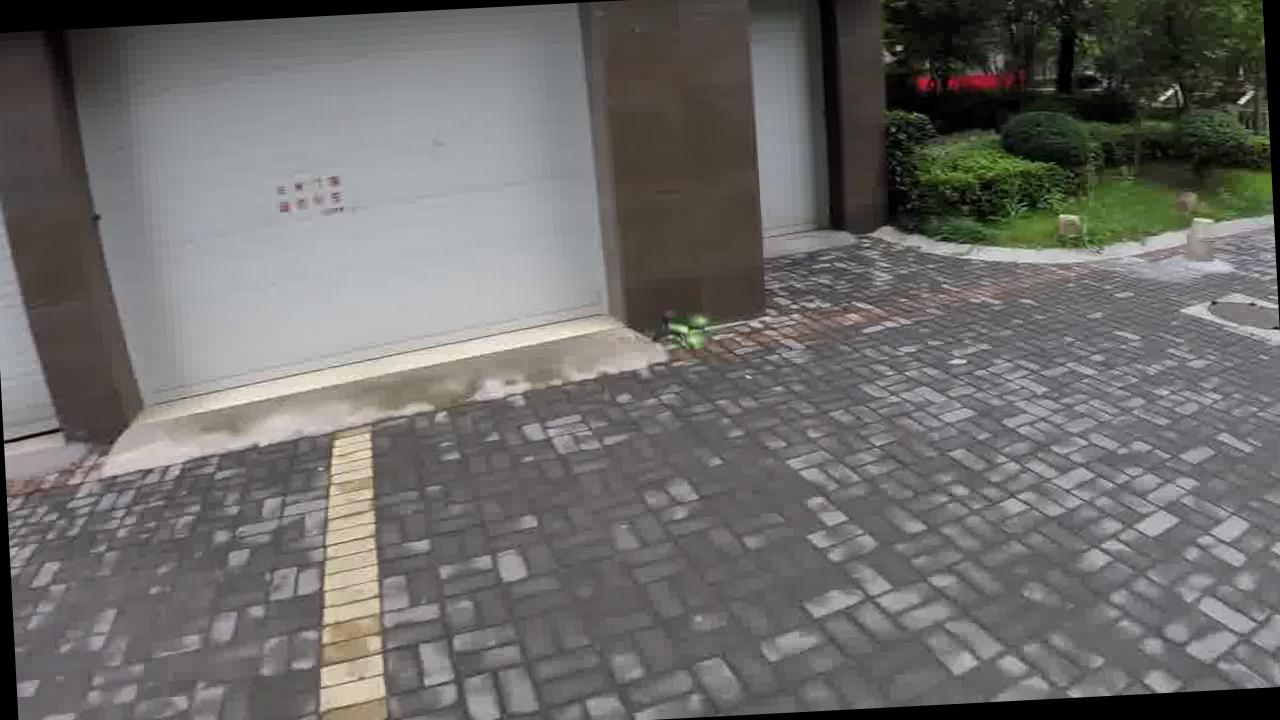drone: (641, 292, 731, 364)
